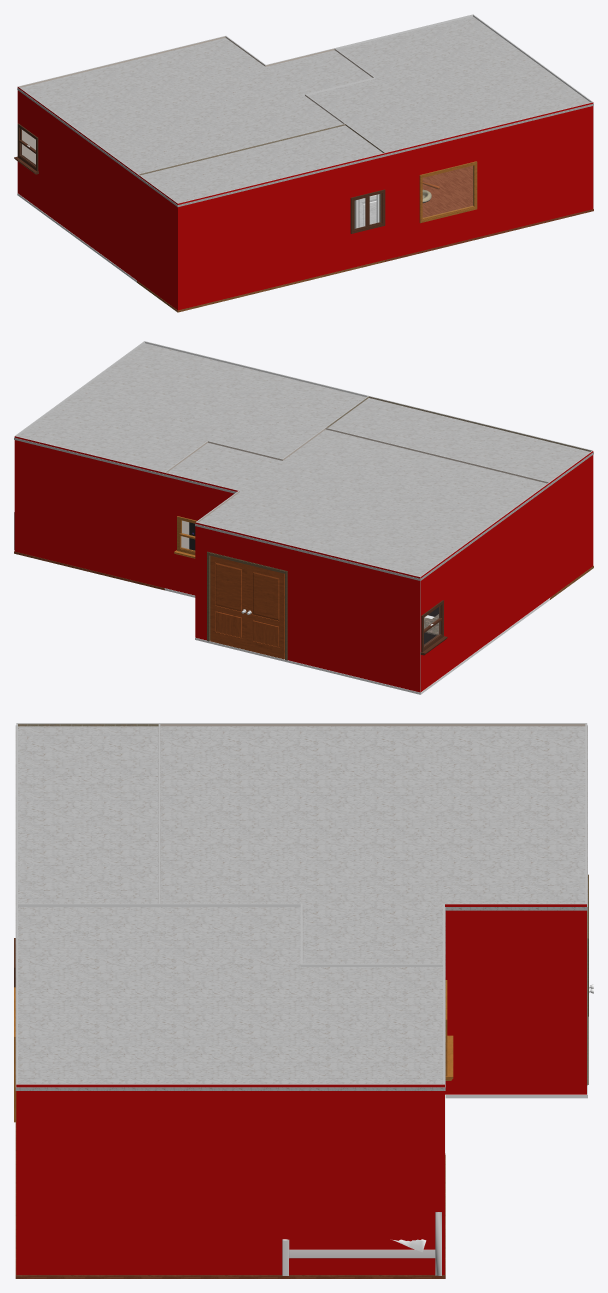
Rendered from ProcTHOR-Train-157.glb.
3 renders of one model, top to bottom at view 1: azimuth 30°, elevation 25°; view 2: azimuth 150°, elevation 25°; view 3: azimuth 270°, elevation 25°, orthographic. The views are drawn at different scales.
Visible parts, largest first — view 1: Ceiling#room|6|c, Ceiling#room|2|c, WallInside#wall|exterior|5.54|7.39|11.09|7.39, WallInside#wall|exterior|0.00|7.39|5.54|7.39, WallInside#wall|exterior|11.09|0.00|11.09|5.54, Ceiling#room|7|c, WallInside#wall|exterior|11.09|5.54|11.09|7.39, Floor#room|2|f, Window_Fixed_60x48, WallInside#wall|6|5.54|0.00|11.09|0.00, Window_Slider_36x36, Floor#room|7|f (+3 smaller); view 2: Ceiling#room|6|c, Ceiling#room|2|c, WallInside#wall|exterior|5.54|0.00|11.09|0.00, WallInside#wall|exterior|0.00|1.85|3.69|1.85, WallInside#wall|exterior|11.09|0.00|11.09|5.54, Ceiling#room|7|c, WallInside#wall|exterior|11.09|5.54|11.09|7.39, WallInside#wall|exterior|3.69|1.85|5.54|1.85, Doorway_Door_4b, Doorway_Door_4a, Floor#room|6|f, Doorway_Double_4 (+4 smaller); view 3: Ceiling#room|6|c, WallInside#wall|exterior|0.00|1.85|0.00|7.39, Ceiling#room|2|c, WallInside#wall|exterior|5.54|0.00|5.54|1.85, Ceiling#room|7|c, Bed_1, Floor#room|2|f, WallInside#wall|6|11.09|0.00|11.09|5.54, Floor#room|6|f.
Boxes of the visible parts, x1,y1,x2,y2 form: Ceiling#room|6|c: [17, 37, 371, 176]; Ceiling#room|2|c: [307, 16, 593, 156]; WallInside#wall|exterior|5.54|7.39|11.09|7.39: [178, 153, 385, 310]; WallInside#wall|exterior|0.00|7.39|5.54|7.39: [385, 102, 593, 259]; WallInside#wall|exterior|11.09|0.00|11.09|5.54: [17, 86, 137, 280]; Ceiling#room|7|c: [137, 125, 384, 206]; WallInside#wall|exterior|11.09|5.54|11.09|7.39: [137, 174, 177, 310]; Floor#room|2|f: [385, 165, 593, 261]; Window_Fixed_60x48: [419, 161, 477, 223]; WallInside#wall|6|5.54|0.00|11.09|0.00: [19, 36, 225, 164]; Window_Slider_36x36: [350, 189, 385, 233]; Floor#room|7|f: [137, 260, 384, 312]; Ceiling#room|6|c: [163, 429, 549, 580]; Ceiling#room|2|c: [14, 343, 368, 476]; WallInside#wall|exterior|5.54|0.00|11.09|0.00: [195, 522, 420, 692]; WallInside#wall|exterior|0.00|1.85|3.69|1.85: [14, 436, 164, 587]; WallInside#wall|exterior|11.09|0.00|11.09|5.54: [420, 482, 549, 692]; Ceiling#room|7|c: [328, 398, 593, 485]; WallInside#wall|exterior|11.09|5.54|11.09|7.39: [550, 451, 593, 597]; WallInside#wall|exterior|3.69|1.85|5.54|1.85: [164, 472, 238, 595]; Doorway_Door_4b: [210, 555, 247, 650]; Doorway_Door_4a: [247, 564, 284, 659]; Floor#room|6|f: [164, 588, 550, 694]; Doorway_Double_4: [207, 551, 287, 660]; Ceiling#room|6|c: [158, 725, 587, 967]; WallInside#wall|exterior|0.00|1.85|0.00|7.39: [16, 1084, 444, 1274]; Ceiling#room|2|c: [15, 906, 445, 1090]; WallInside#wall|exterior|5.54|0.00|5.54|1.85: [445, 904, 586, 1094]; Ceiling#room|7|c: [15, 725, 160, 905]; Bed_1: [282, 1212, 441, 1275]; Floor#room|2|f: [15, 1122, 445, 1278]; WallInside#wall|6|11.09|0.00|11.09|5.54: [160, 723, 586, 726]; Floor#room|6|f: [445, 1085, 587, 1154].
Size of what is drawn, in the model's own units: 11.25 by 2.78 by 7.53.
Materials: 262 (101 with a texture image).
